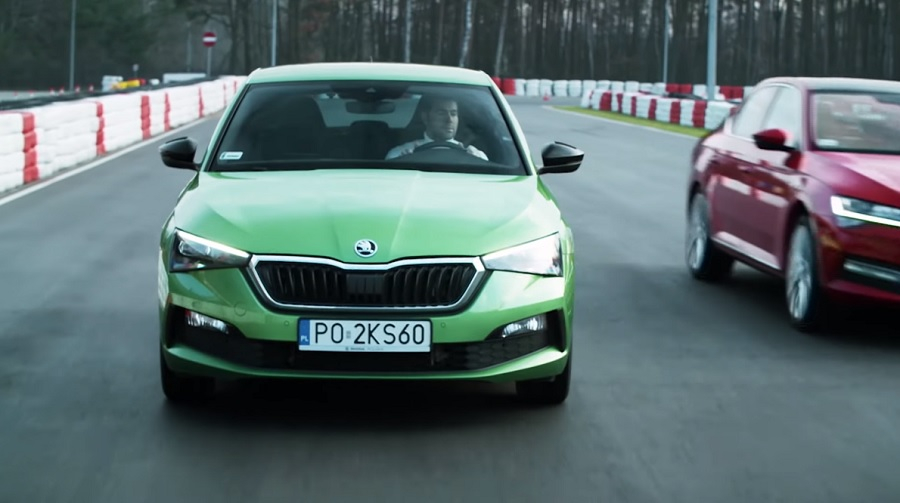number_plate: (297, 318, 432, 353)
